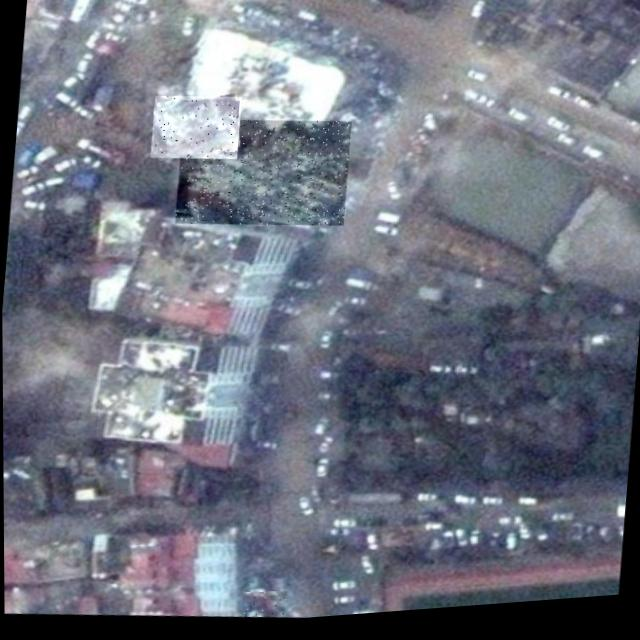Rubble: (174, 111, 351, 239), (149, 92, 242, 166), (240, 591, 285, 624)
